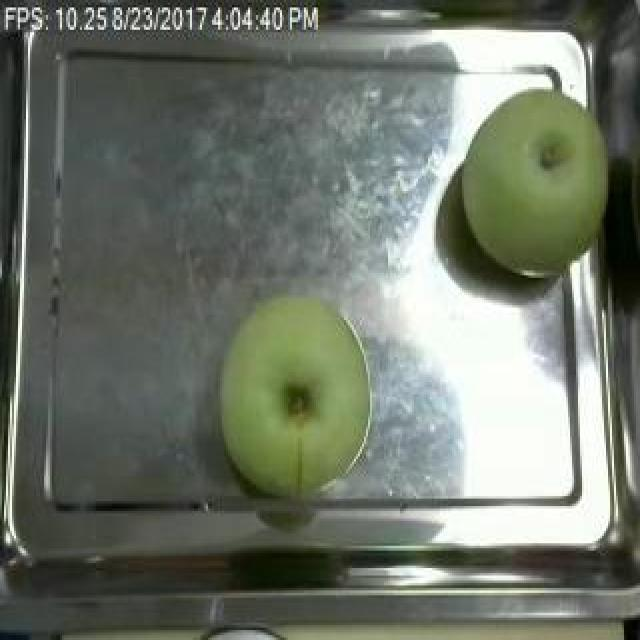Rotten Apple: (215, 295, 381, 509), (456, 83, 622, 279)
